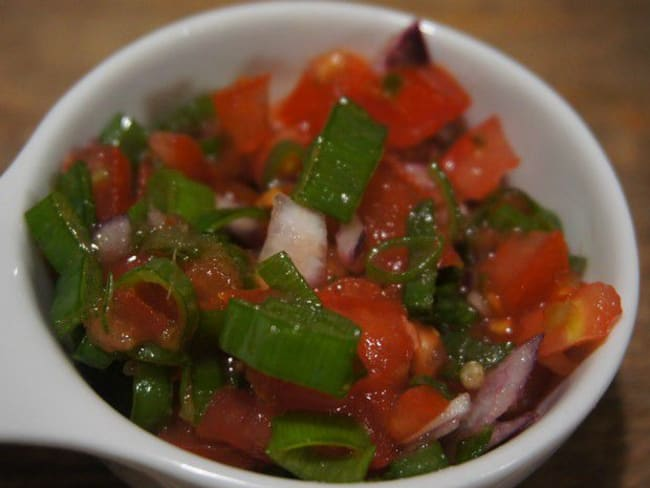cébette: (227, 310, 347, 376)
oignon: (282, 203, 319, 261)
tomate: (235, 46, 383, 95)
